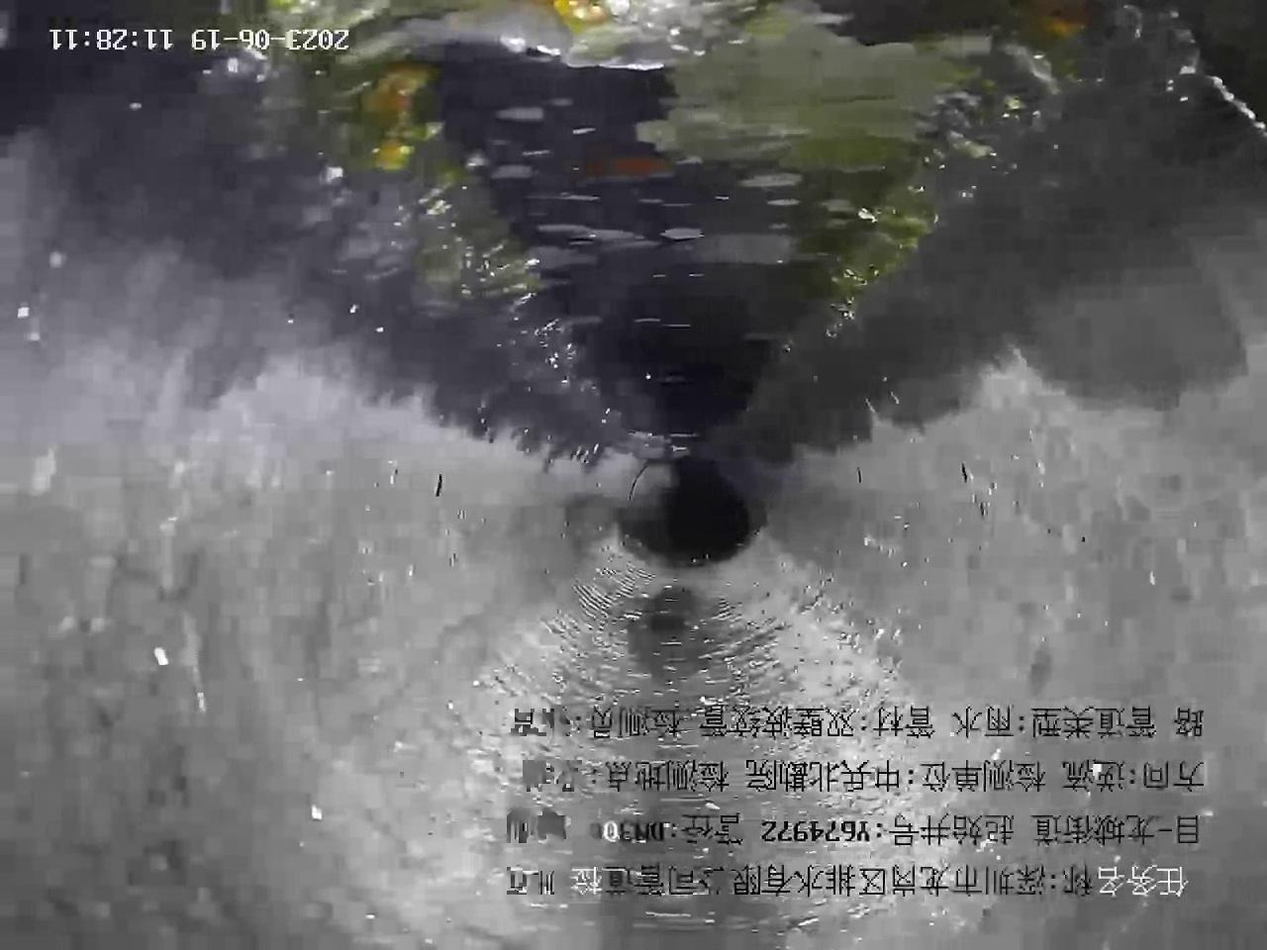FZ: (276, 1, 1095, 448)
